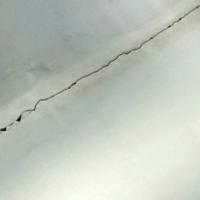crack: (0, 0, 199, 142)
